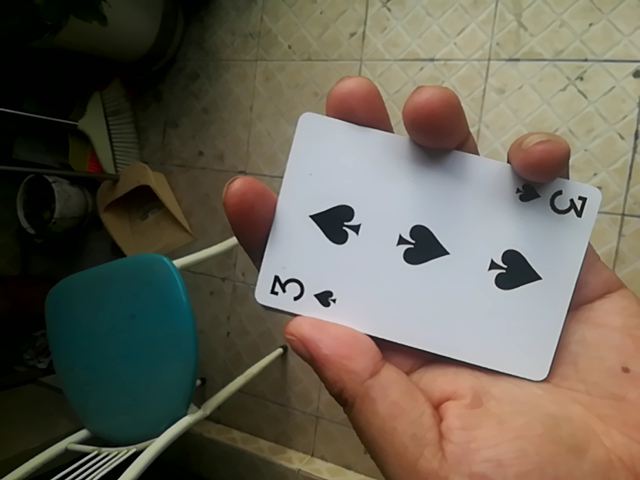ht 3: (252, 128, 595, 376)
